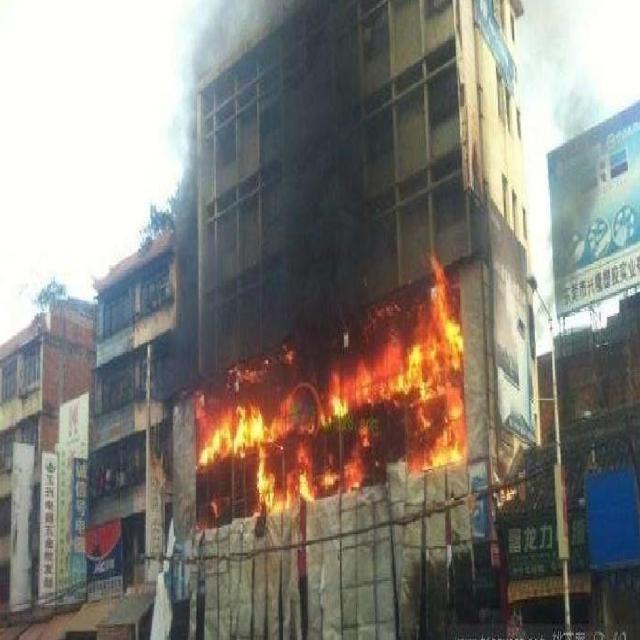Fire: (195, 256, 470, 518)
Smoke: (146, 1, 375, 400)
